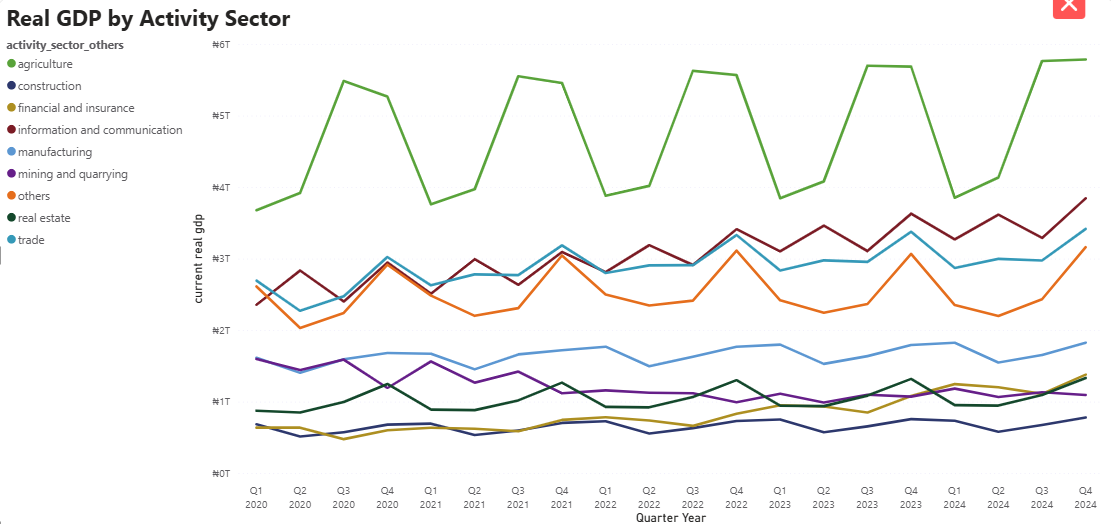

The page's visual inventory and layout, read from the dashboard file:
{"tool":"powerbi","page":{"name":"Page 2","canvas":[1280,720],"ordinal":1},"visuals":[{"type":"lineChart","fields":{"Category":["date table.Quarter Year"],"Y":["measures_.current real gdp"],"Series":["gdp.activity_sector_group"]},"box":[9.7,0,1271.1,720.6],"z":0}]}

Visuals, with their boxes on the page's 1280x720 design canvas (x1, y1, x2, y2). These are canvas units, not pixel positions in the 1111x524 screenshot, which may show the page scaled, cropped or inside an application window:
lineChart - date table.Quarter Year x measures_.current real gdp: BBox(10, 0, 1281, 721)
